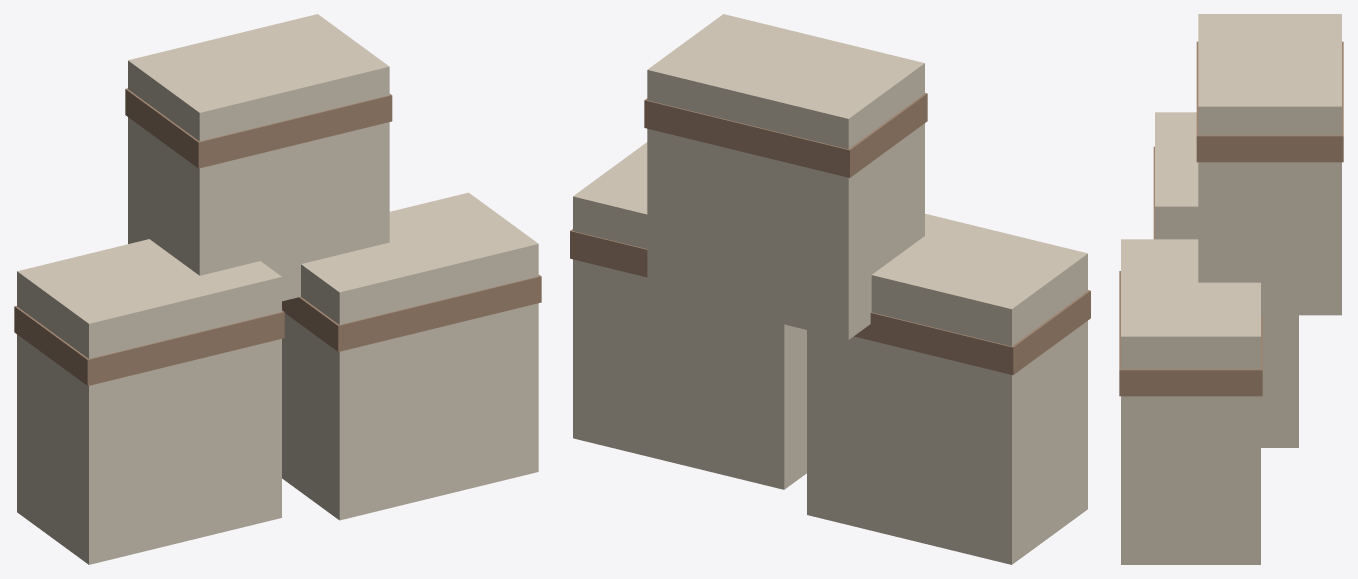
The model's file is grain_sack_stack.glb.
3 views of the same model, side by side, from view 1: azimuth 30°, elevation 25°; view 2: azimuth 150°, elevation 25°; view 3: azimuth 270°, elevation 25° (orthographic). The views are drawn at different scales.
Parts seen in each view (by area): view 1: box_0, box_2, box_4, box_1, box_5, box_3; view 2: box_0, box_4, box_2, box_5, box_1, box_3; view 3: box_2, box_4, box_0, box_5, box_3.
Boxes of the visible parts, <box> form: box_0: <box>17,239,281,564</box>; box_2: <box>282,192,538,520</box>; box_4: <box>128,14,389,301</box>; box_1: <box>14,306,284,385</box>; box_5: <box>125,88,392,168</box>; box_3: <box>282,275,541,351</box>; box_0: <box>807,213,1087,564</box>; box_4: <box>647,14,924,339</box>; box_2: <box>573,142,806,489</box>; box_5: <box>644,93,927,177</box>; box_1: <box>854,290,1090,374</box>; box_3: <box>570,229,647,277</box>; box_2: <box>1121,239,1260,564</box>; box_4: <box>1198,14,1341,315</box>; box_0: <box>1155,112,1298,447</box>; box_5: <box>1196,41,1343,162</box>; box_3: <box>1119,271,1262,396</box>.
Size of the model in its own units: 1.4 by 1.24 by 0.6229.
